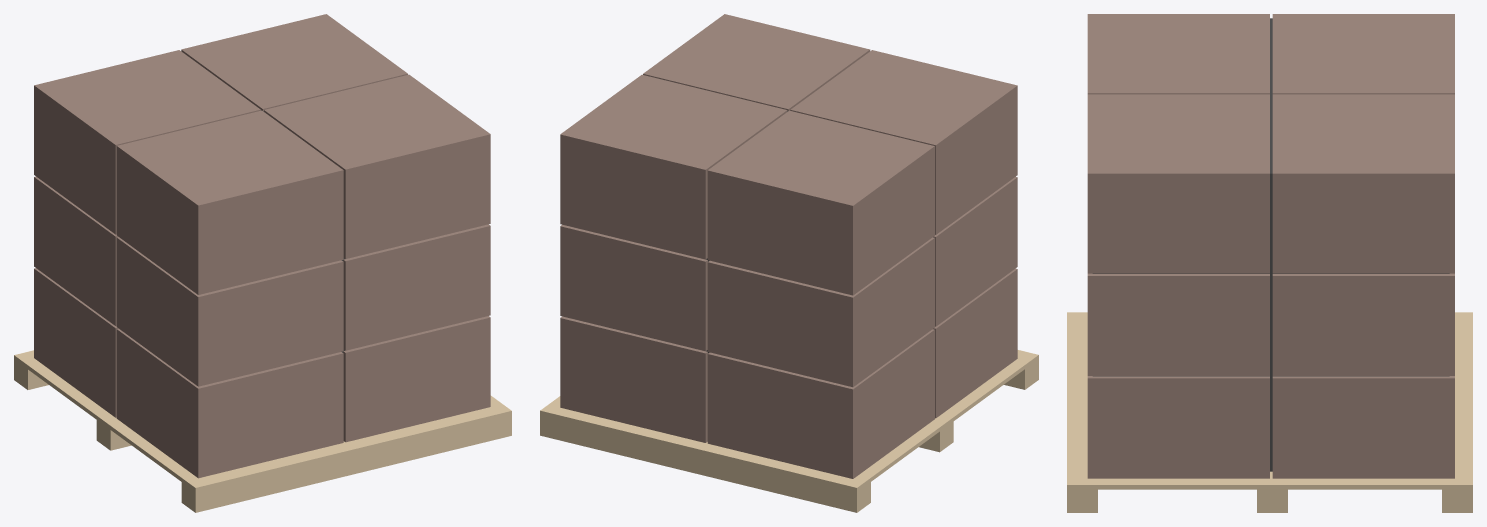
Rendered from pallet_old.fbx.
3 views of the same model, side by side, from view 1: azimuth 30°, elevation 25°; view 2: azimuth 150°, elevation 25°; view 3: azimuth 270°, elevation 25° (orthographic). The views are drawn at different scales.
Parts seen in each view (by area): view 1: Center; view 2: Center; view 3: Center.
Boxes of the visible parts, x1,y1,x2,y2 form: Center: [14, 14, 511, 512]; Center: [540, 14, 1038, 512]; Center: [1067, 14, 1472, 512].
Size of the model in its own units: 159 by 143 by 158.
